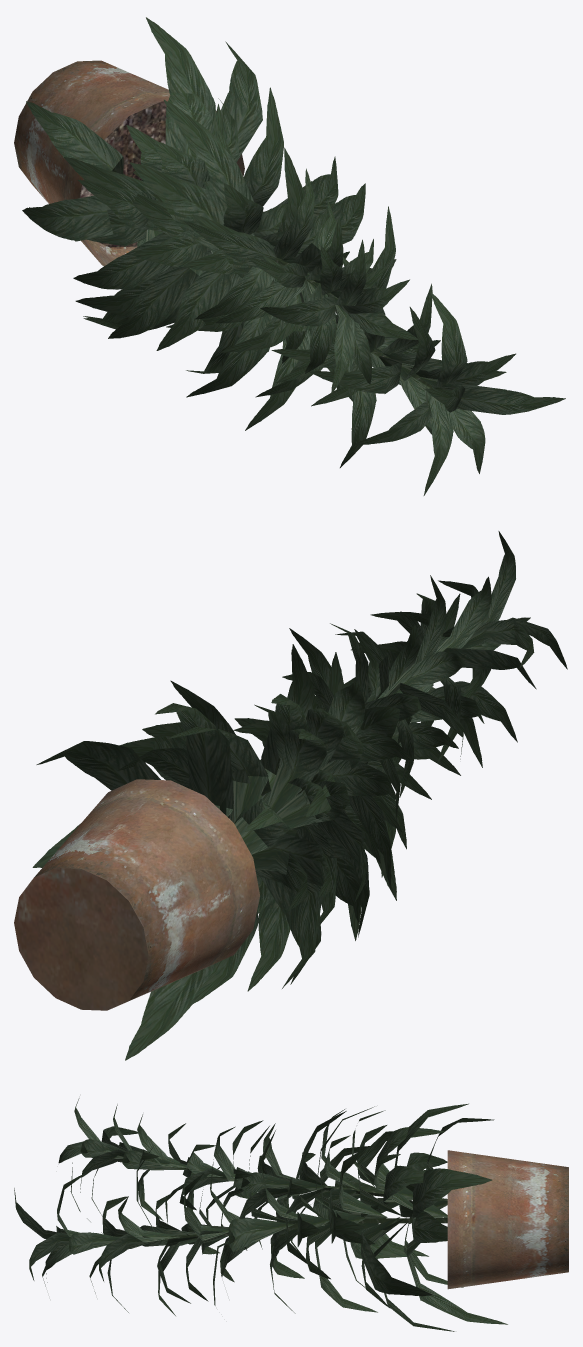
The model's file is nt_2020_greenhouse_plant_02_LOD1.obj.
The picture shows the model from 3 angles, top to bottom: view 1: azimuth 30°, elevation 25°; view 2: azimuth 150°, elevation 25°; view 3: azimuth 270°, elevation 25°; orthographic projection. The views are drawn at different scales.
Parts seen in each view (by area): view 1: mat_cub_pottedplant, mtl_p_glo_flower_pot_large, mtl_p_glo_flower_pot_dirt; view 2: mat_cub_pottedplant, mtl_p_glo_flower_pot_large; view 3: mat_cub_pottedplant, mtl_p_glo_flower_pot_large.
Boxes of the visible parts, box(x1,y1,x2,y2) form: mat_cub_pottedplant: box(22, 17, 565, 495); mtl_p_glo_flower_pot_large: box(14, 60, 244, 265); mtl_p_glo_flower_pot_dirt: box(80, 101, 167, 247); mat_cub_pottedplant: box(32, 531, 567, 1060); mtl_p_glo_flower_pot_large: box(14, 779, 259, 1010); mat_cub_pottedplant: box(14, 1098, 507, 1331); mtl_p_glo_flower_pot_large: box(447, 1150, 568, 1289).
Bounding box in the file's own units: 69.89 × 73.22 × 166.
